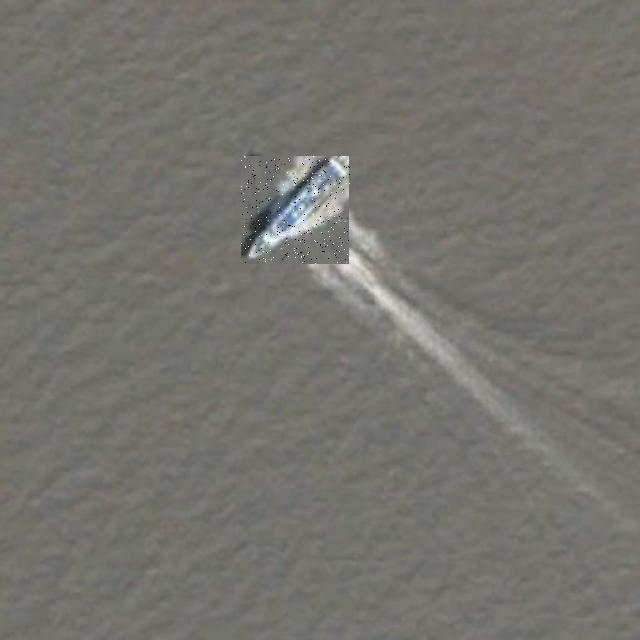boat: (241, 156, 350, 264)
